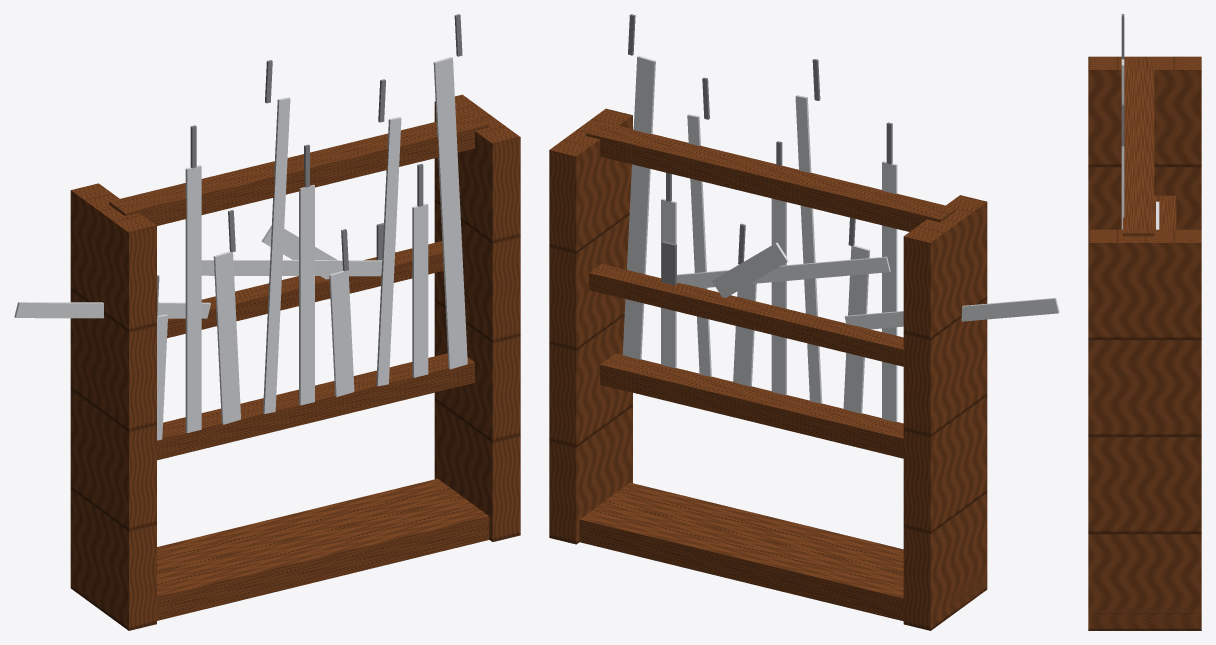
The model's file is blade-blank-rack-1-4-m.glb.
3 renders of one model, left to right at view 1: azimuth 30°, elevation 25°; view 2: azimuth 150°, elevation 25°; view 3: azimuth 270°, elevation 25°, orthographic. The views are drawn at different scales.
Parts seen in each view (by area): view 1: blacksmith-forge-and-armoury-blade-rack-with-blanks; view 2: blacksmith-forge-and-armoury-blade-rack-with-blanks; view 3: blacksmith-forge-and-armoury-blade-rack-with-blanks.
Boxes of the visible parts, x1,y1,x2,y2 form: blacksmith-forge-and-armoury-blade-rack-with-blanks: (14, 14, 520, 630); blacksmith-forge-and-armoury-blade-rack-with-blanks: (549, 14, 1059, 630); blacksmith-forge-and-armoury-blade-rack-with-blanks: (1088, 14, 1201, 630).
Size of the model in its own units: 1.74 by 1.77 by 0.36.
Materials: 3 (1 with a texture image).
